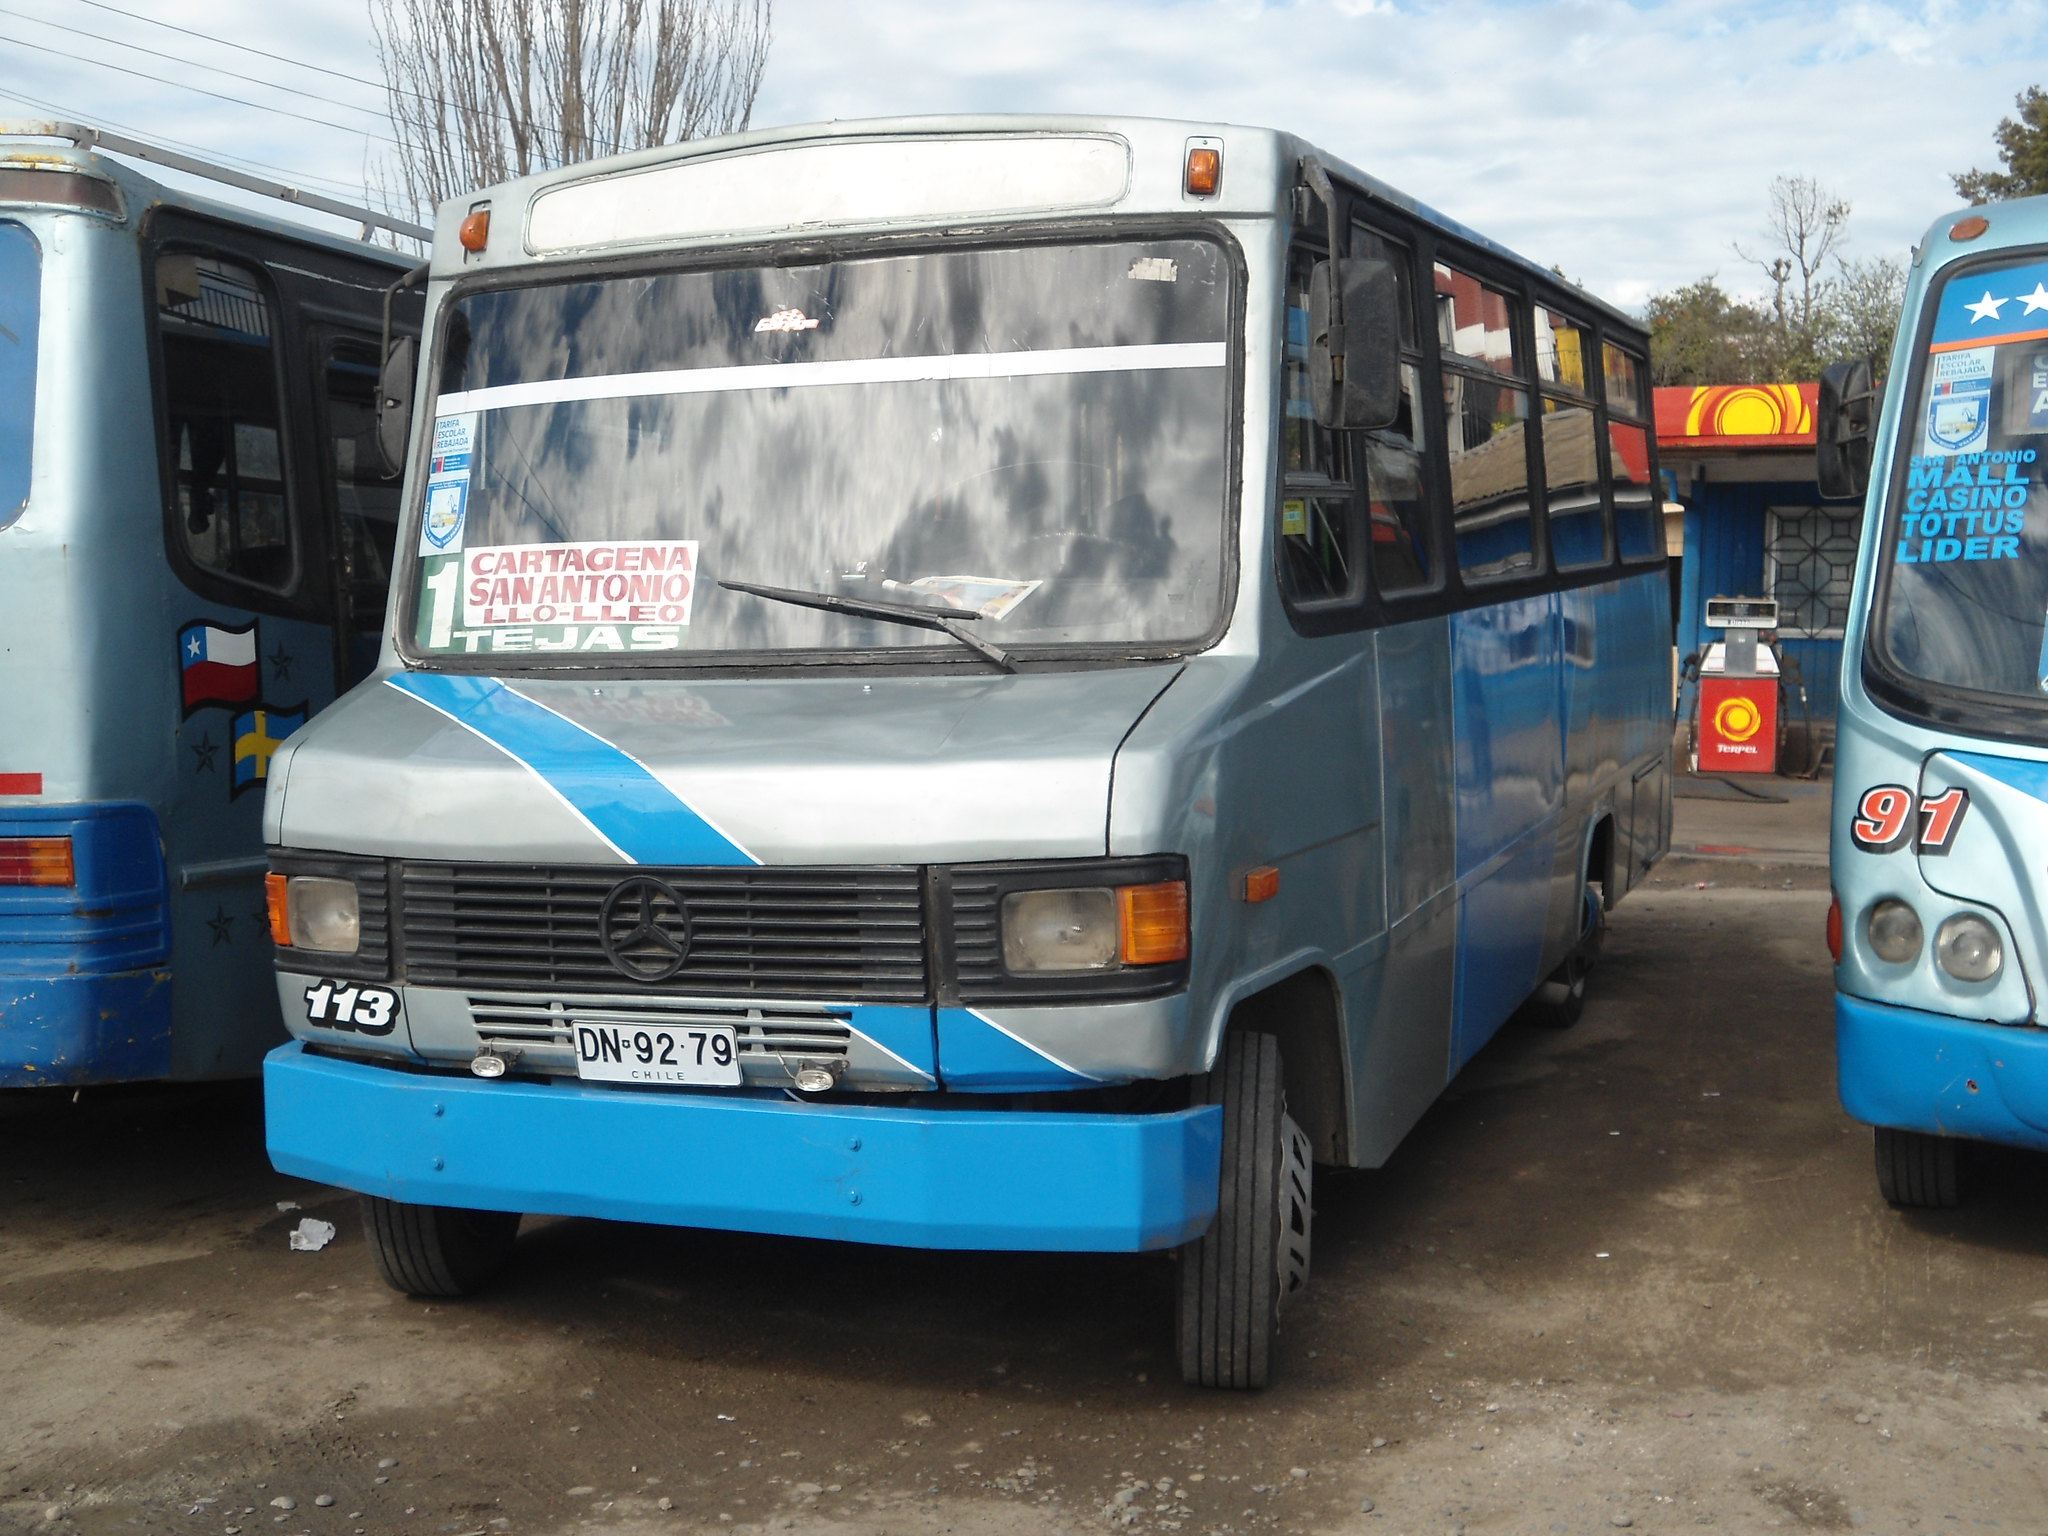bus: (252, 124, 1729, 1394)
